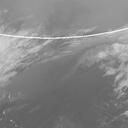cyclone: (36, 31, 97, 84)
